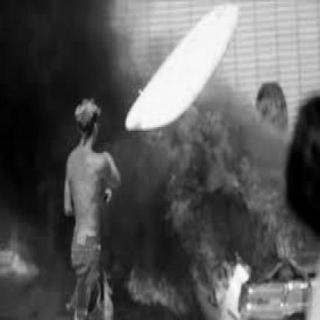Fire: (102, 76, 298, 306)
Smoke: (5, 6, 101, 276)
